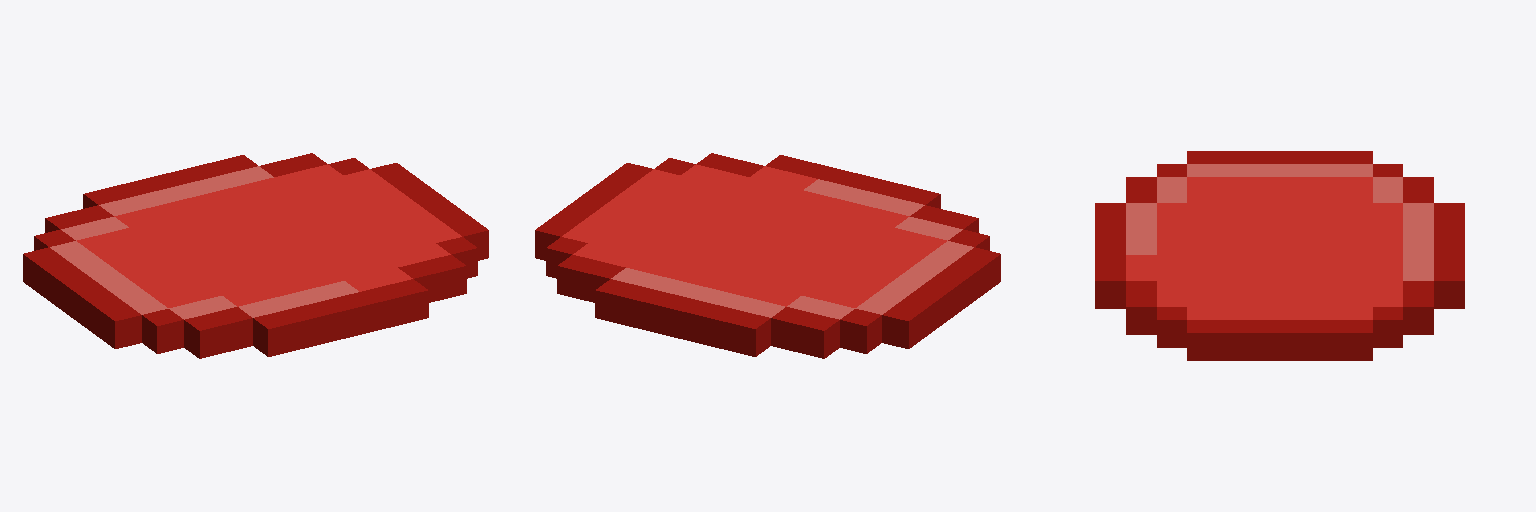
The picture shows the model from 3 angles: view 1: azimuth 30°, elevation 25°; view 2: azimuth 150°, elevation 25°; view 3: azimuth 270°, elevation 25°; orthographic projection.
Visible parts, largest first — view 1: object 1; view 2: object 1; view 3: object 1.
Part boxes in pixels (x1,y1,x2,y2): object 1: (23, 153, 488, 358); object 1: (535, 153, 1000, 358); object 1: (1095, 151, 1464, 360).
Bounding box in the file's own units: 1.4 × 0.1 × 1.2.
1 materials, 1 textured.